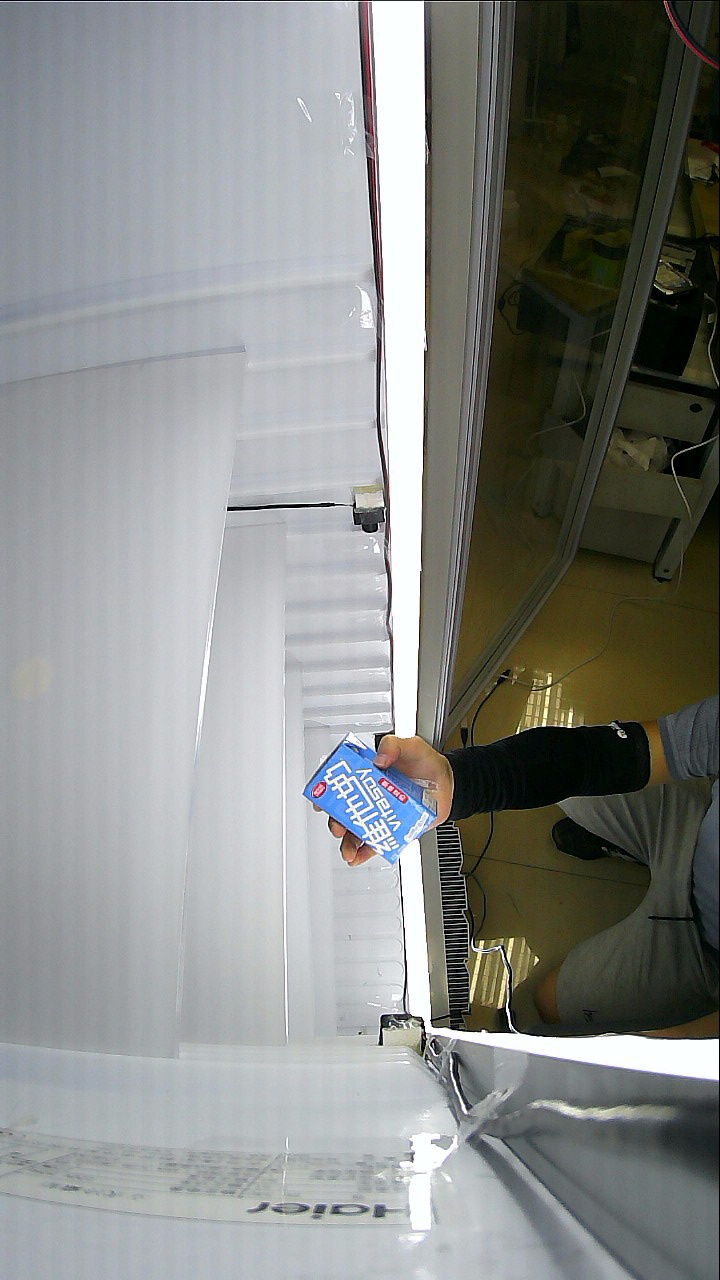VitaSoyOriginal: (307, 737, 509, 867)
